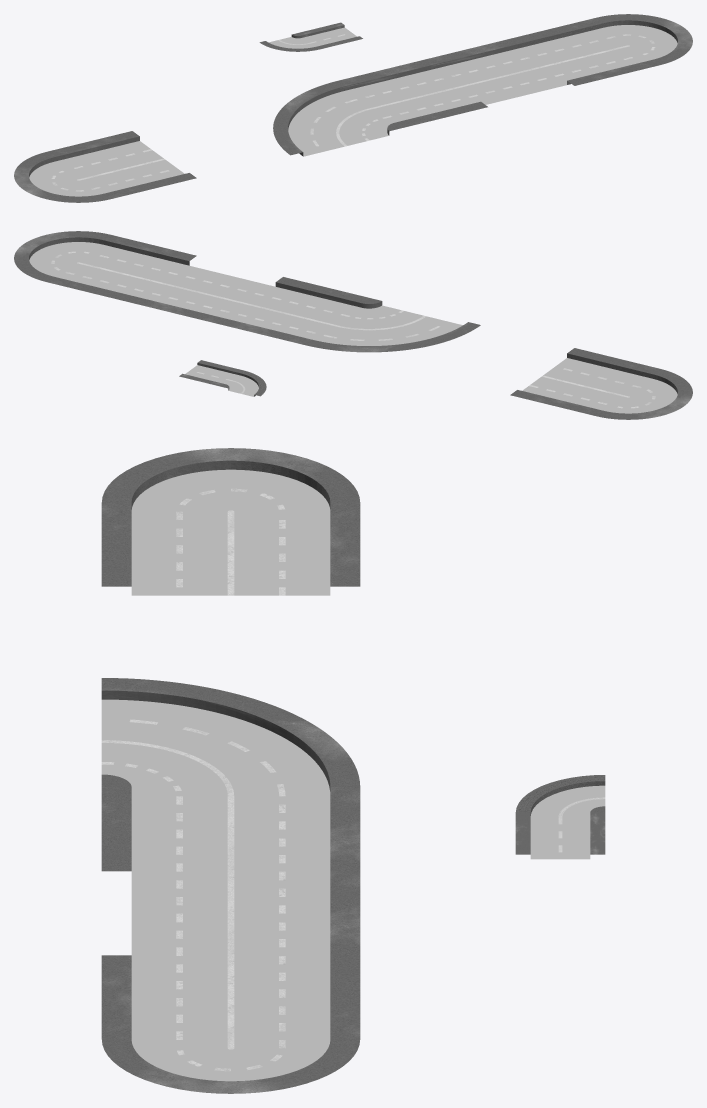
The model's file is road4.fbx.
The picture shows the model from 3 angles, top to bottom: view 1: azimuth 30°, elevation 25°; view 2: azimuth 150°, elevation 25°; view 3: azimuth 270°, elevation 25°; orthographic projection. The views are drawn at different scales.
Visible parts, largest first — view 1: Plane.003, Plane.001, Plane, Plane.002, Plane.008; view 2: Plane.003, Plane.001, Plane, Plane.002, Plane.008; view 3: Plane.003, Plane, Plane.001, Plane.002, Plane.008.
Part boxes in pixels (bbox=[...]): Plane.003: bbox=[273, 60, 487, 156]; Plane.001: bbox=[510, 14, 692, 85]; Plane: bbox=[14, 131, 196, 202]; Plane.002: bbox=[424, 39, 566, 104]; Plane.008: bbox=[259, 22, 362, 51]; Plane.003: bbox=[219, 277, 480, 352]; Plane.001: bbox=[14, 231, 196, 302]; Plane: bbox=[510, 348, 692, 419]; Plane.002: bbox=[133, 265, 275, 323]; Plane.008: bbox=[179, 360, 266, 396]; Plane.003: bbox=[101, 678, 360, 880]; Plane: bbox=[101, 448, 360, 595]; Plane.001: bbox=[101, 955, 360, 1093]; Plane.002: bbox=[131, 871, 360, 964]; Plane.008: bbox=[515, 775, 605, 859].
Size of the model in its own units: 15369 by 100 by 5064.
